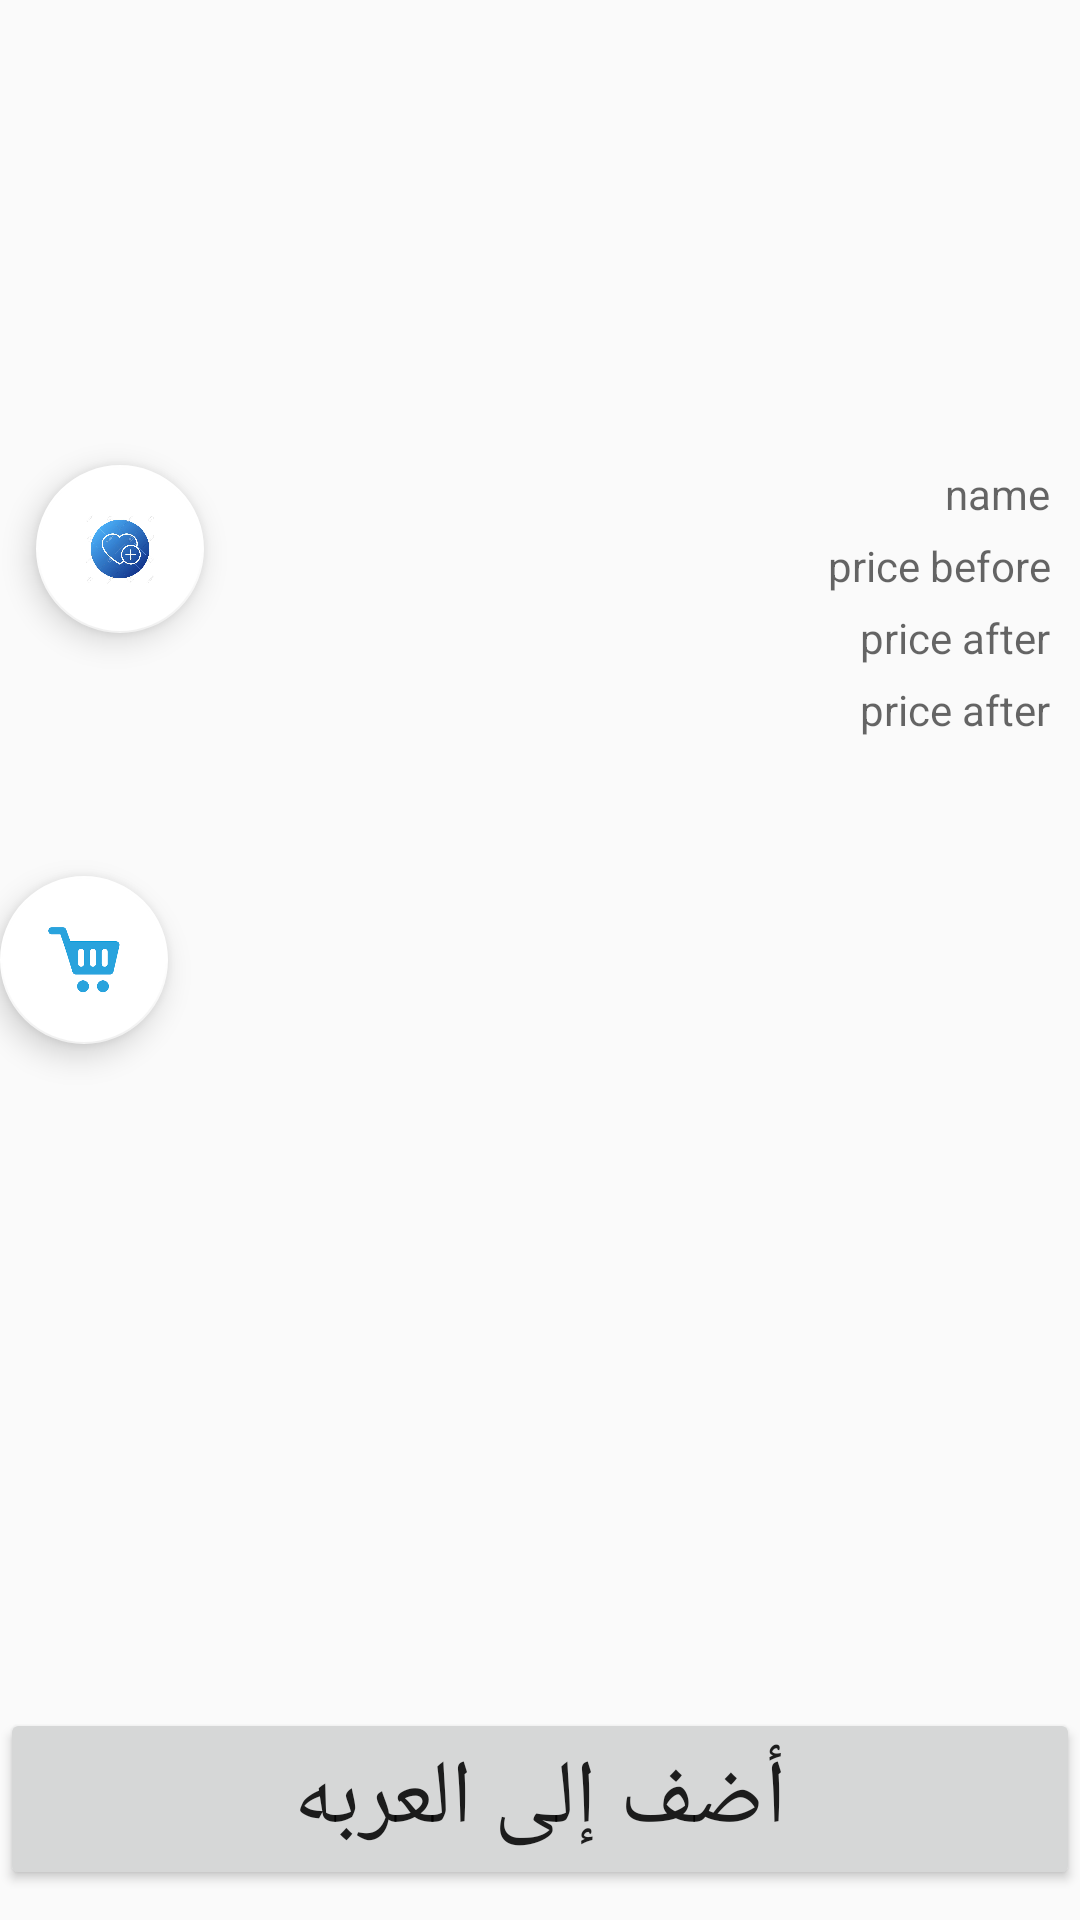

Named icons in this screenshot (1080x1920) and their bounding boxes, bbox=[x1, y1, x2, y2]:
cart: bbox=[0, 927, 157, 1007]
fav: bbox=[36, 499, 180, 633]
